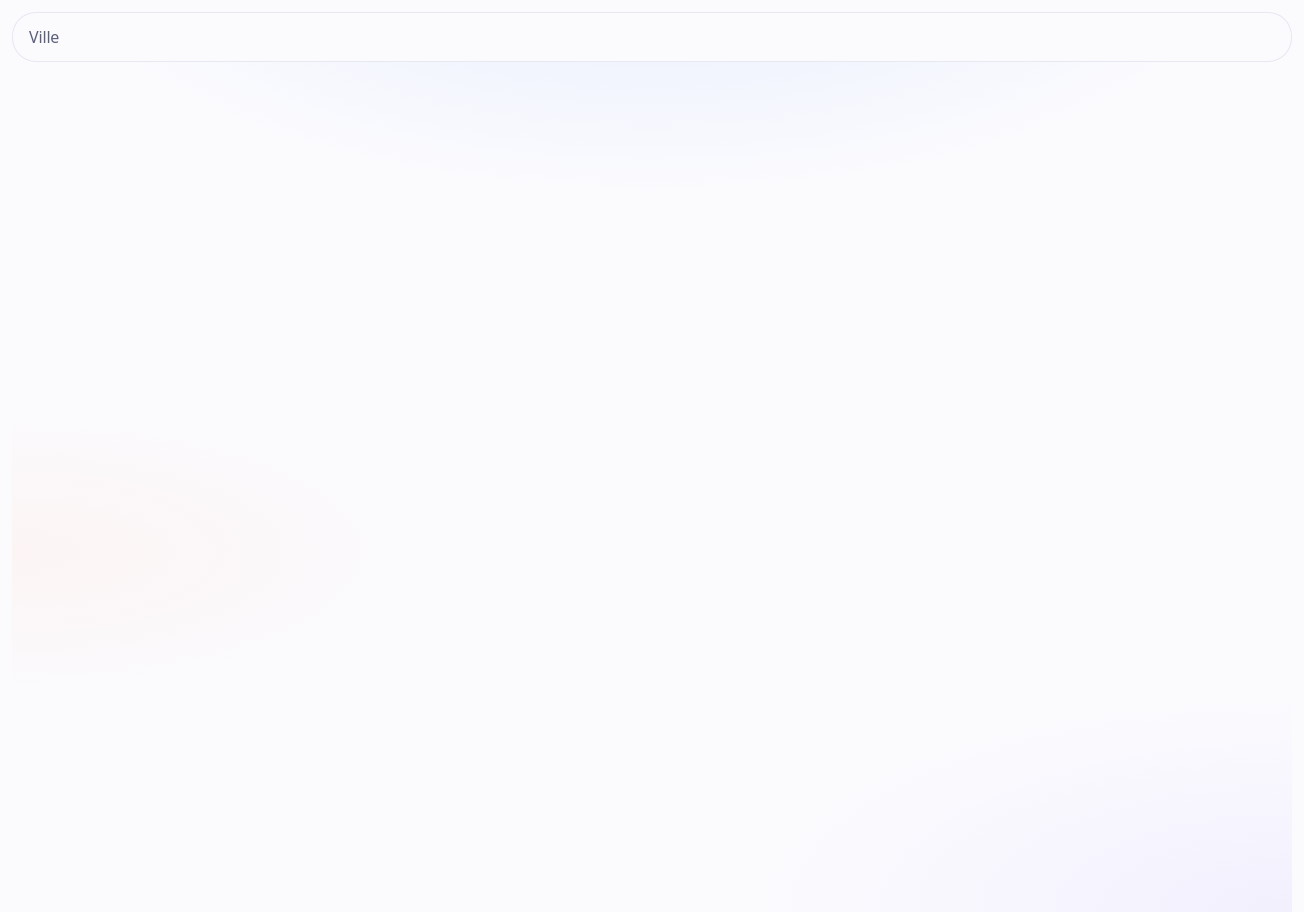
Test case: PlaceAutocompleteInput — keyboard navigation › Enter selects the active option and closes the listbox
Type "par" into the dropdown at [652, 37], box [12, 12, 1292, 62]
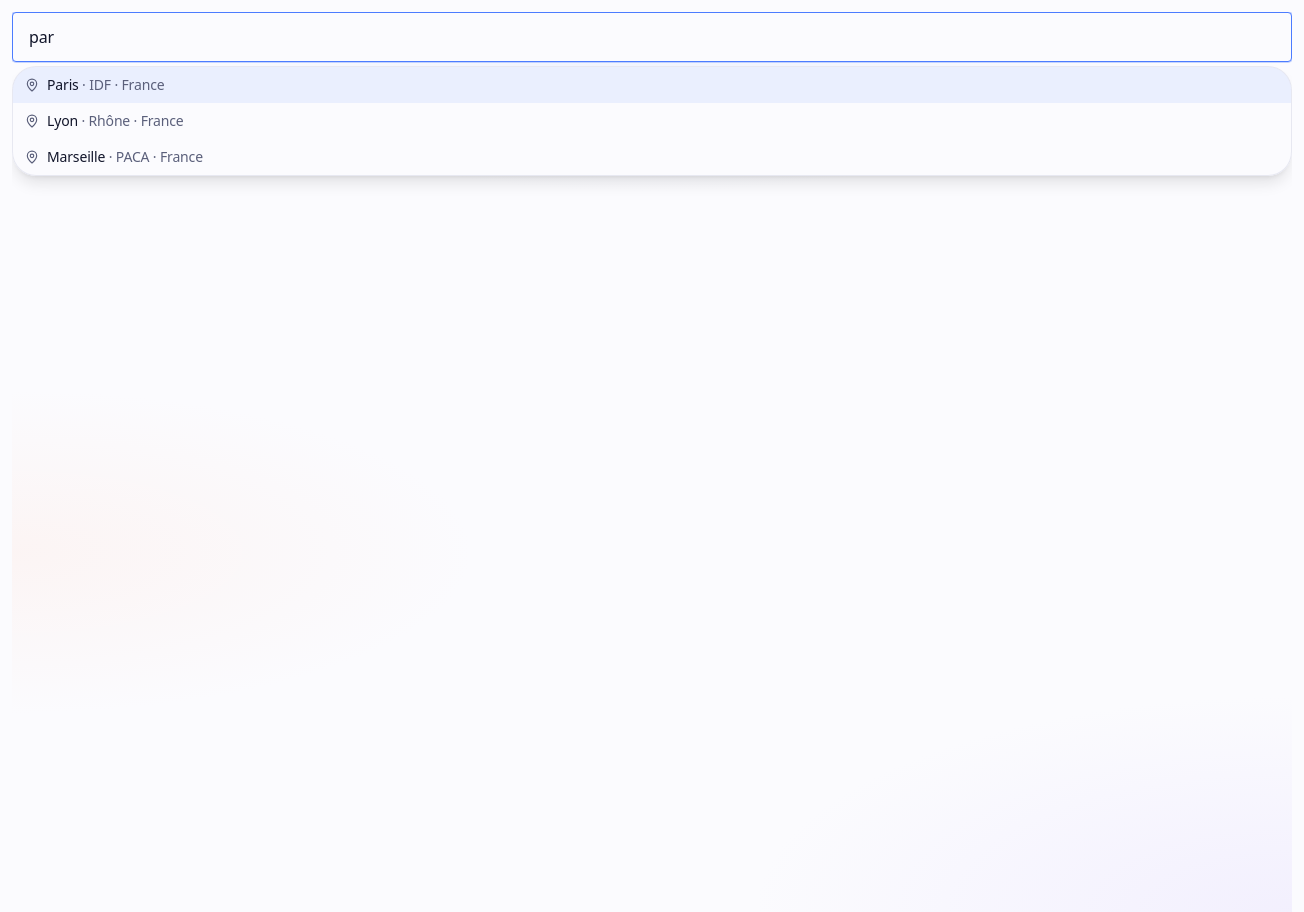
Now the text "Paris" is shown, box [47, 75, 79, 94]
Press ArrowDown in the dropdown, box [12, 12, 1292, 62]
Press Enter in the dropdown, box [12, 12, 1292, 62]
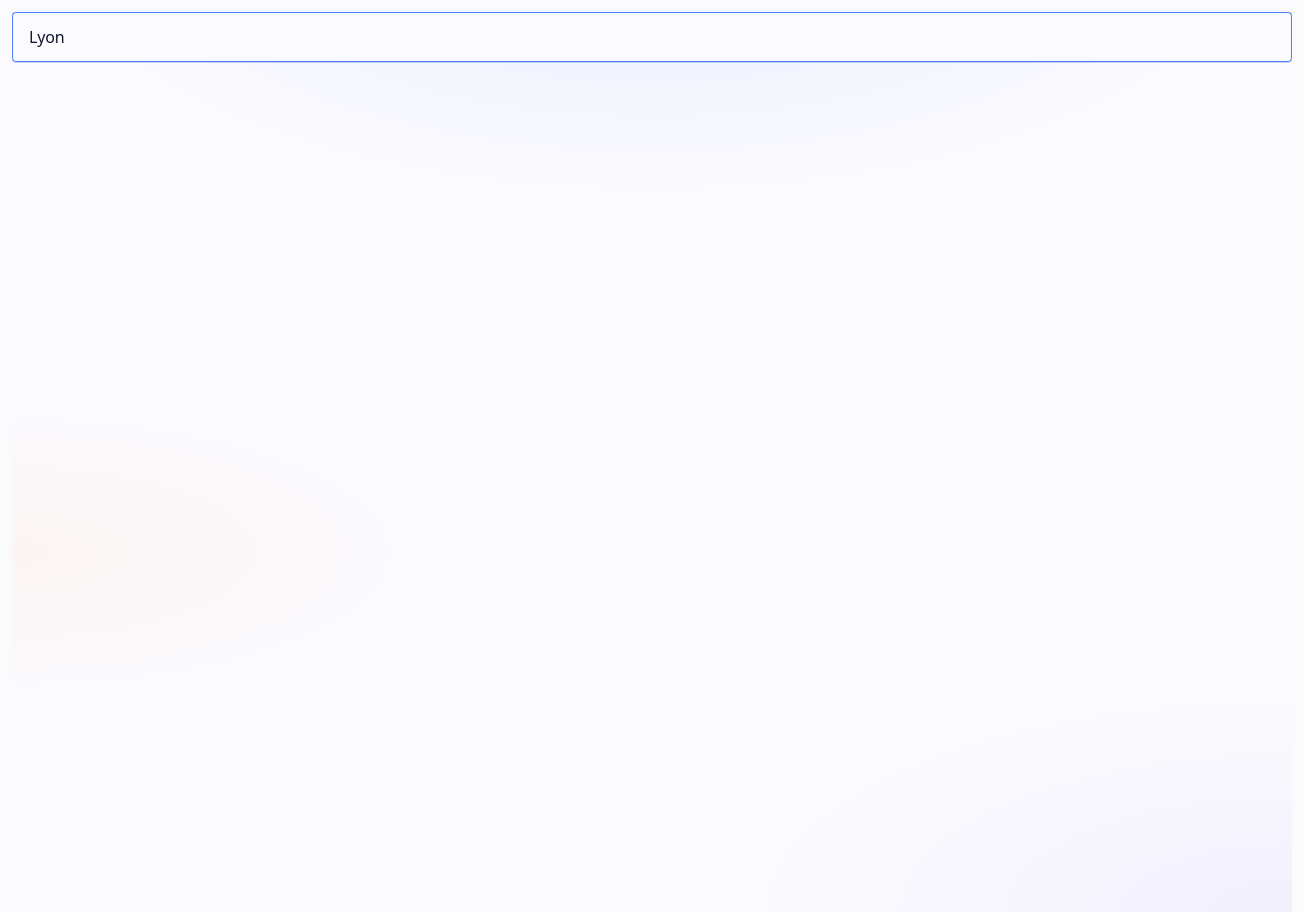
Now the list is gone
Now the dropdown holds "Lyon", box [12, 12, 1292, 62]
